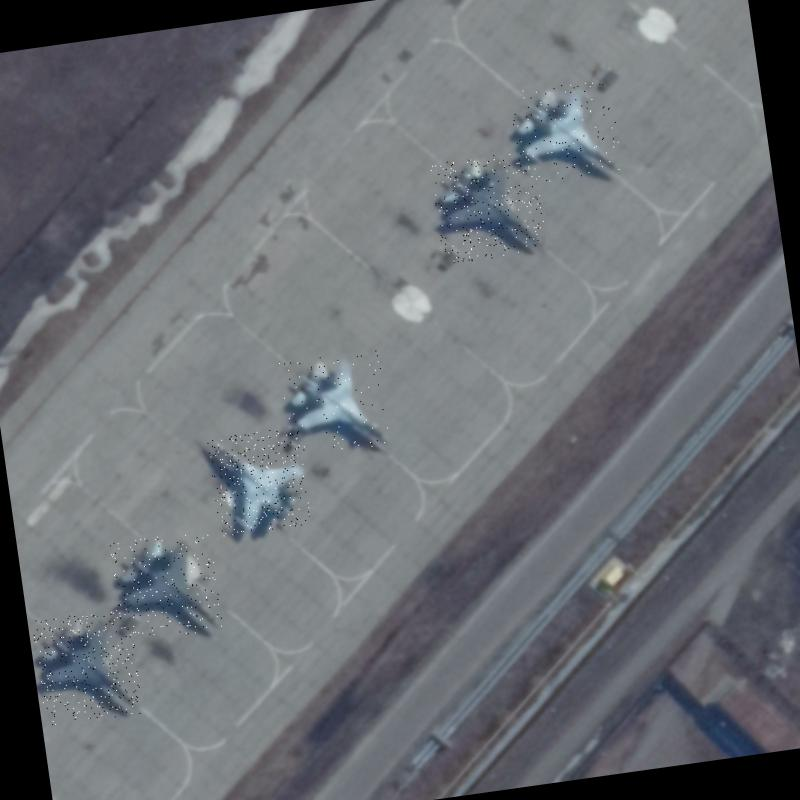A1: (430, 149, 548, 265), (31, 606, 144, 726), (109, 529, 223, 644), (278, 349, 392, 458), (508, 78, 622, 185), (206, 426, 312, 536)
